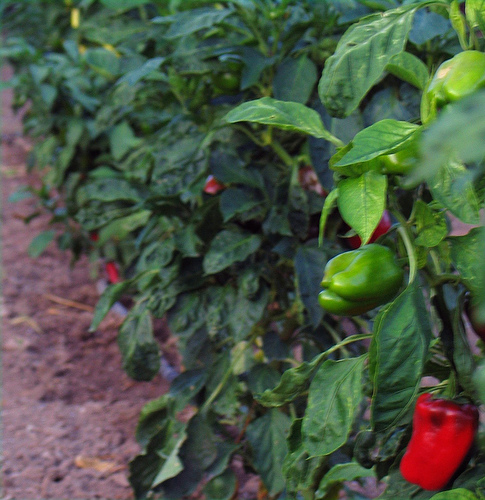capsicum: (398, 391, 478, 491), (316, 241, 403, 317), (417, 47, 483, 127)
